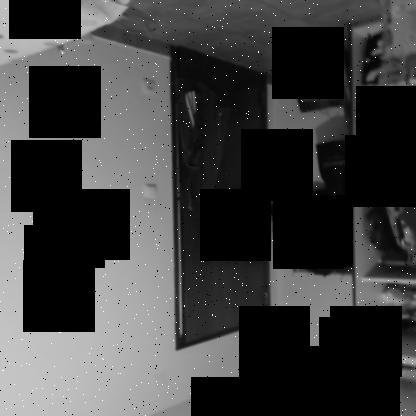Porte: (170, 45, 274, 352)
